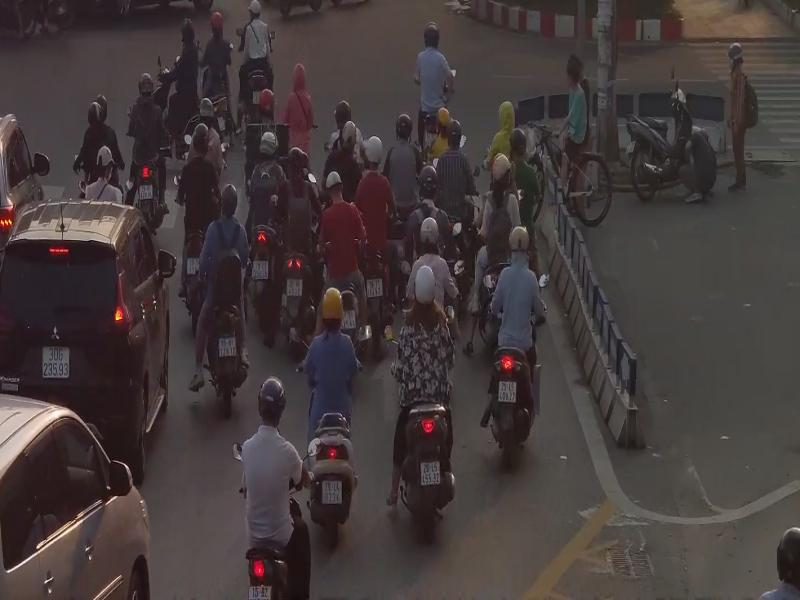helmet: (258, 378, 288, 414), (414, 268, 438, 306), (321, 286, 344, 320), (420, 216, 440, 251), (510, 226, 531, 259), (492, 152, 513, 184), (364, 136, 384, 167), (258, 129, 280, 156), (97, 144, 116, 172), (340, 120, 359, 148), (286, 144, 308, 168), (193, 121, 210, 152), (259, 86, 276, 116), (511, 124, 528, 152), (422, 20, 440, 46), (88, 97, 103, 128), (326, 168, 342, 196), (136, 75, 156, 97), (728, 40, 745, 65), (434, 105, 451, 130), (334, 99, 353, 121), (397, 114, 414, 138), (221, 186, 239, 206), (179, 15, 195, 36), (447, 120, 463, 140), (211, 13, 223, 33), (248, 1, 262, 17)
license_plate: (42, 344, 71, 378), (321, 476, 342, 503), (421, 459, 442, 485), (218, 334, 238, 358), (252, 260, 270, 281), (186, 254, 202, 276), (500, 381, 516, 401), (287, 278, 302, 298), (366, 278, 384, 294), (140, 181, 154, 200)
motorcyclist: (393, 265, 458, 534), (242, 377, 314, 600), (308, 283, 363, 548), (490, 223, 547, 471), (202, 185, 248, 419), (280, 141, 325, 361), (356, 138, 395, 361), (180, 121, 219, 337), (249, 128, 286, 344), (129, 75, 171, 236), (202, 13, 240, 145), (237, 0, 273, 135)
